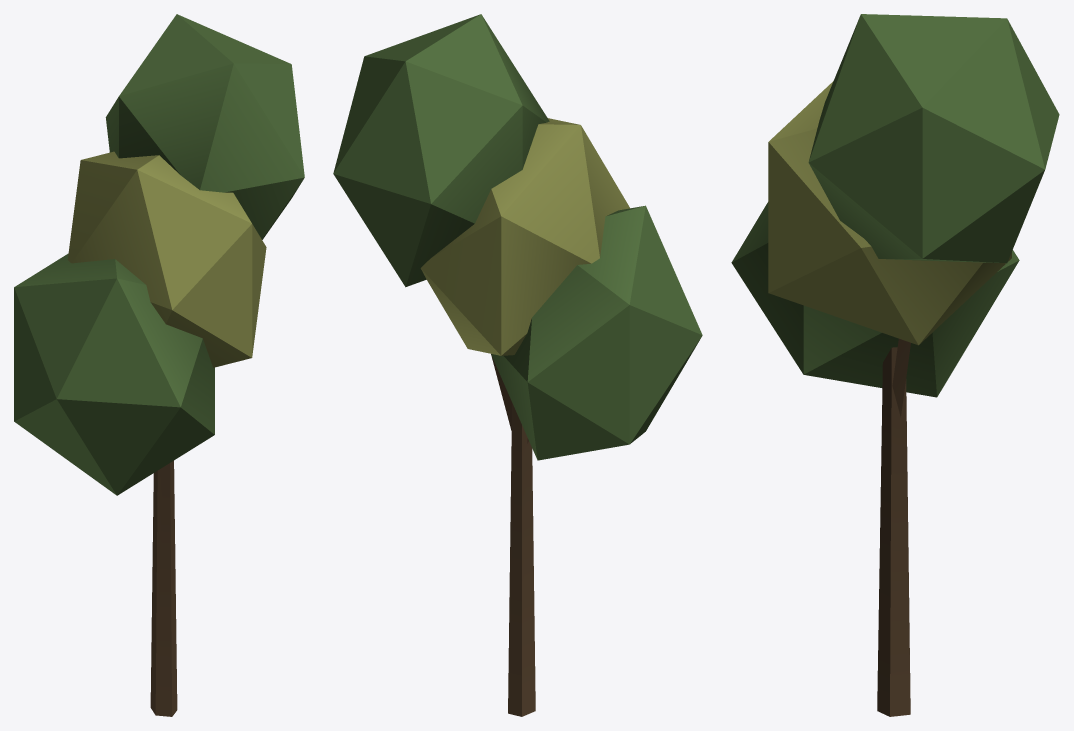
Rendered from tree-gum-1.glb.
3 renders of one model, left to right at view 1: azimuth 30°, elevation 25°; view 2: azimuth 150°, elevation 25°; view 3: azimuth 270°, elevation 25°, orthographic. The views are drawn at different scales.
Visible parts, largest first — view 1: tree-gum-1; view 2: tree-gum-1; view 3: tree-gum-1.
Part boxes in pixels (<box>): tree-gum-1: <box>14,14,304,716</box>; tree-gum-1: <box>333,14,702,716</box>; tree-gum-1: <box>731,14,1059,716</box>.
Bounding box in the file's own units: 10 × 22 × 9.
